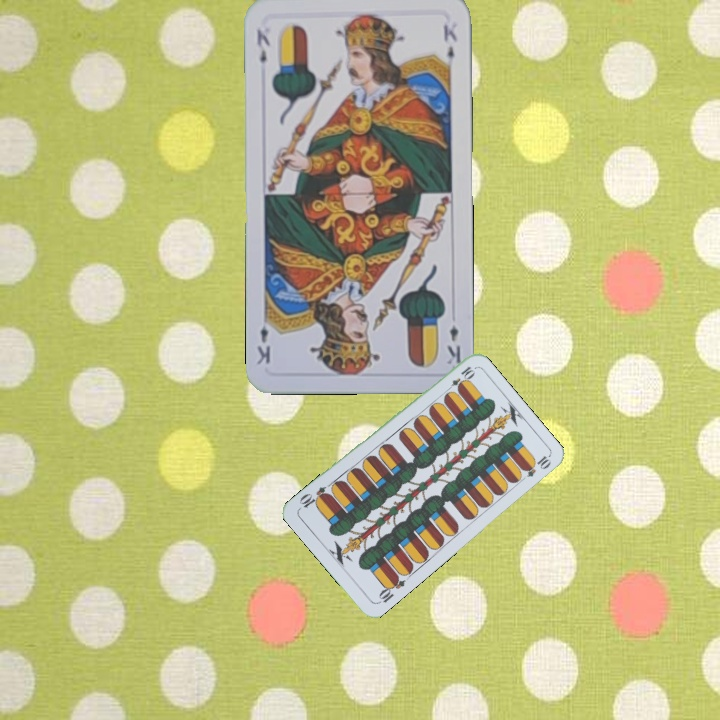E10: (374, 571, 408, 606), (442, 362, 477, 395)
EK: (443, 321, 463, 367), (253, 25, 273, 66)
